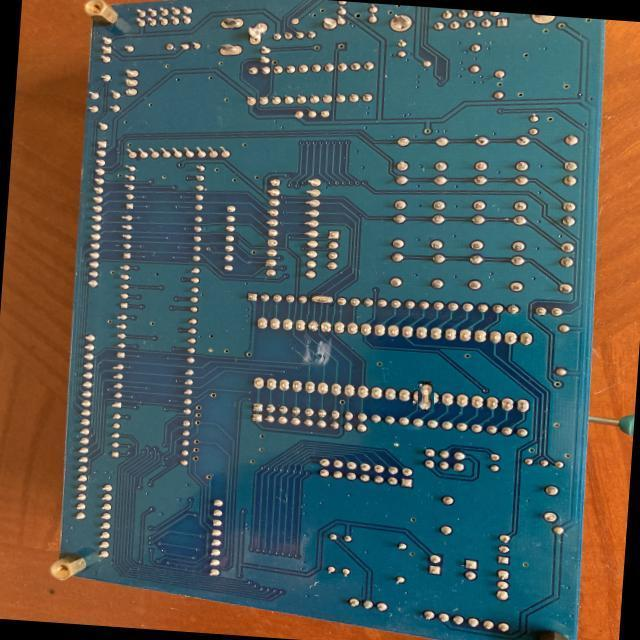damged: (414, 385, 437, 408), (308, 294, 334, 306)
